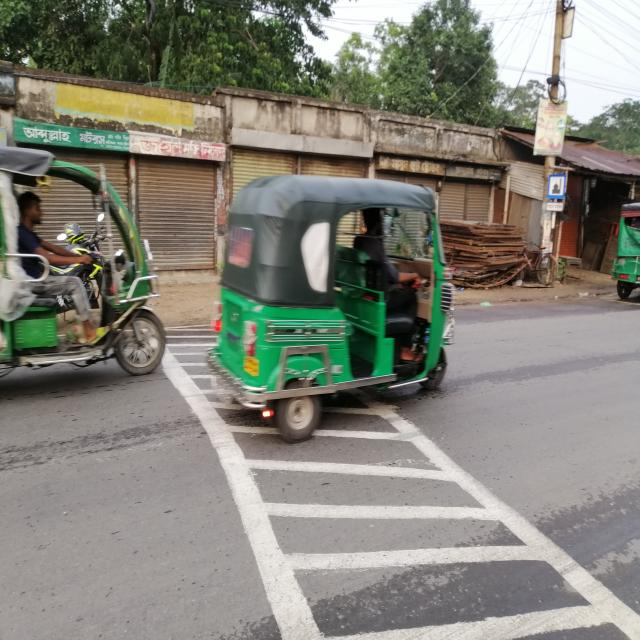CNG: (209, 165, 463, 437)
